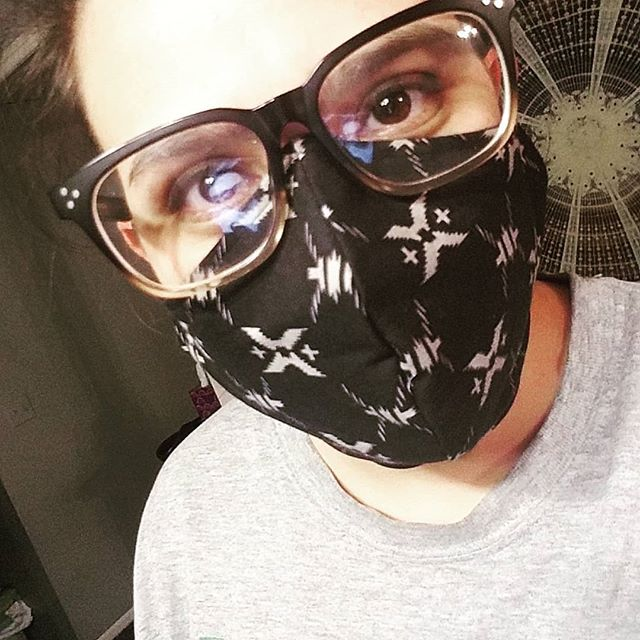homemade: (116, 137, 574, 467)
